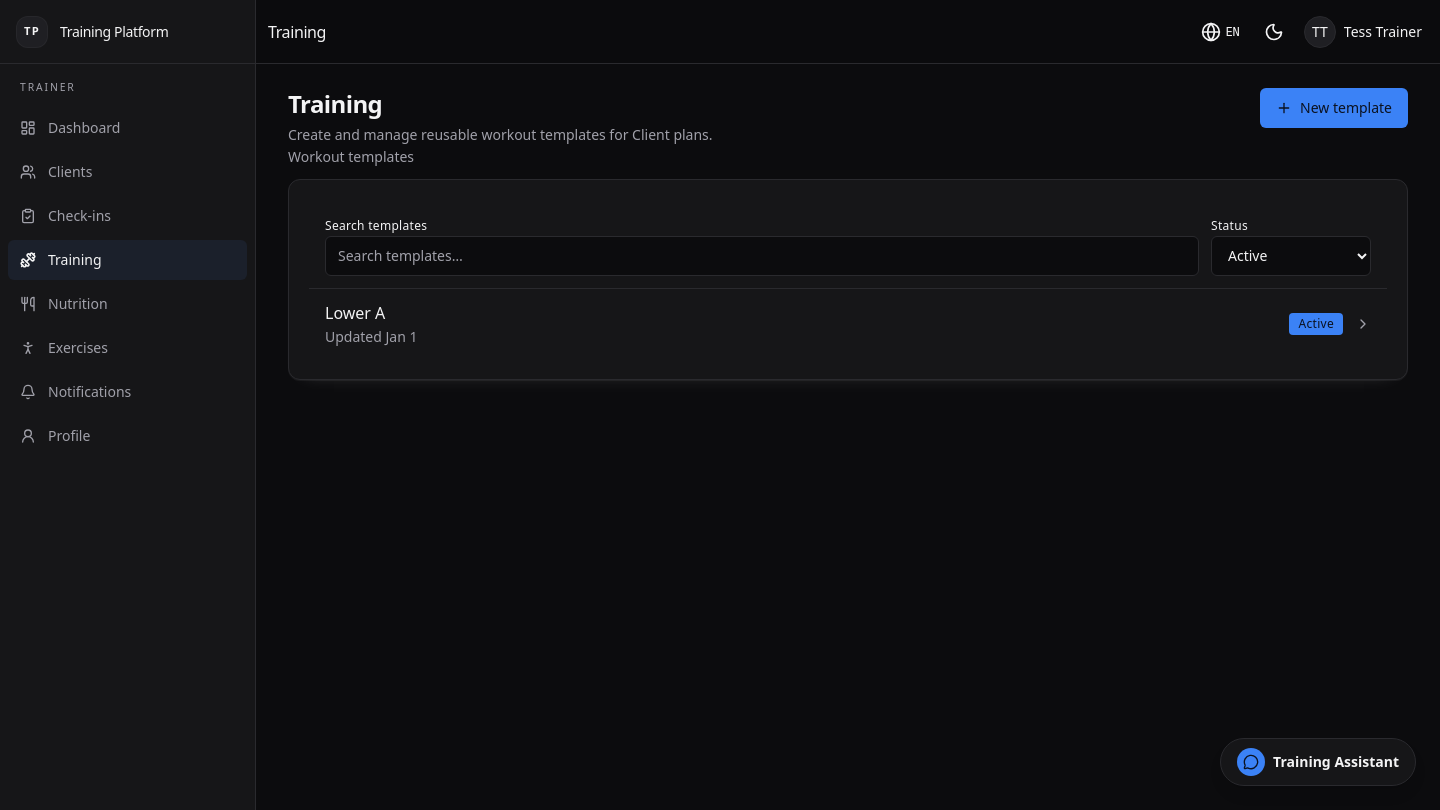
Test case: Trainer workspace › keeps the template library primary and creates from a sheet
Check: the heading "Training" is shown, box [288, 87, 382, 120]
Check: the heading "Workout templates" is shown, box [288, 147, 414, 166]
Click the button "New template".
click(1334, 108)  # box [1260, 88, 1408, 128]
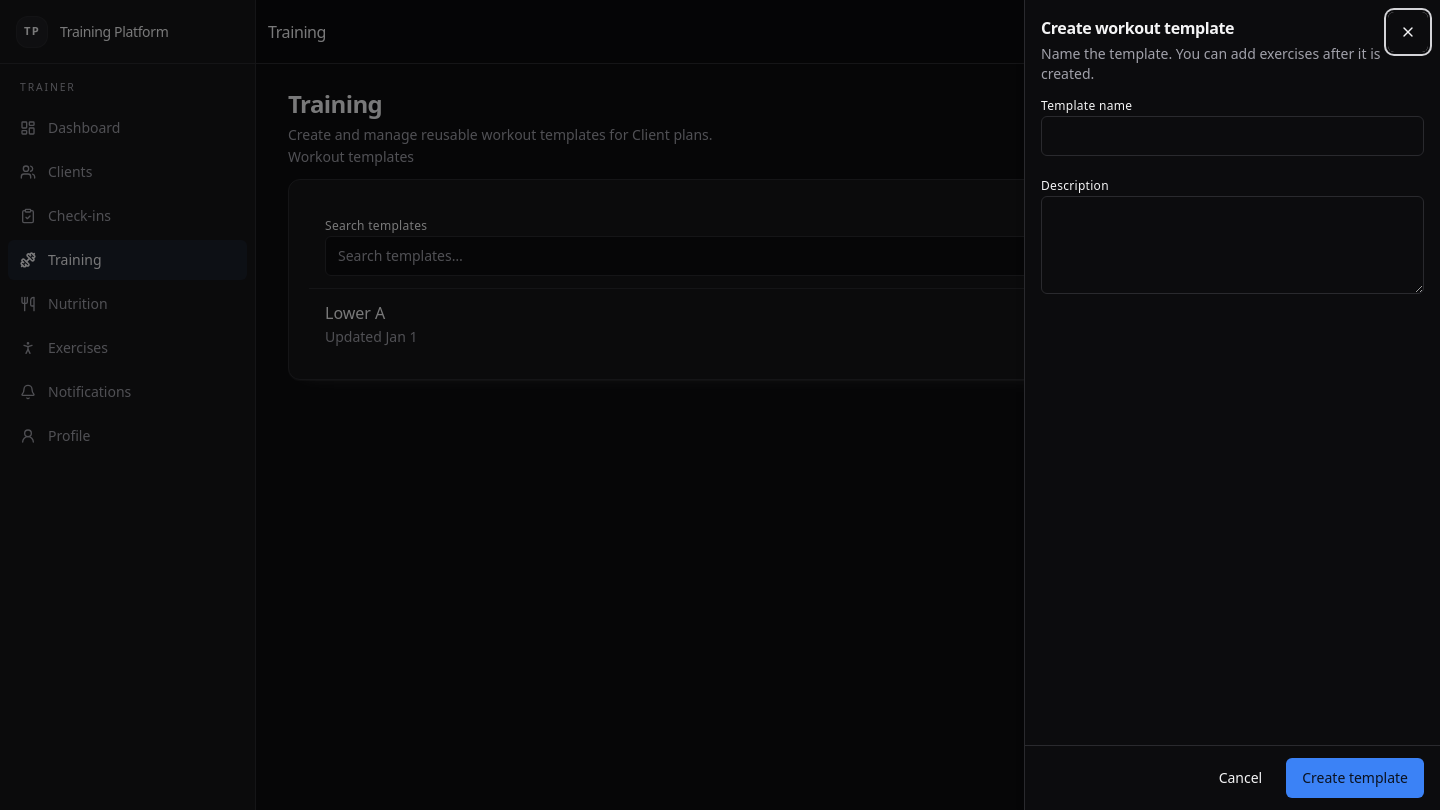
Check: the dialog is shown, box [1024, 0, 1439, 809]
Type "Pull Hypertrophy" into the field labelled "Template name".
click(1232, 136); type("Pull Hypertrophy")  # box [1041, 116, 1424, 156]
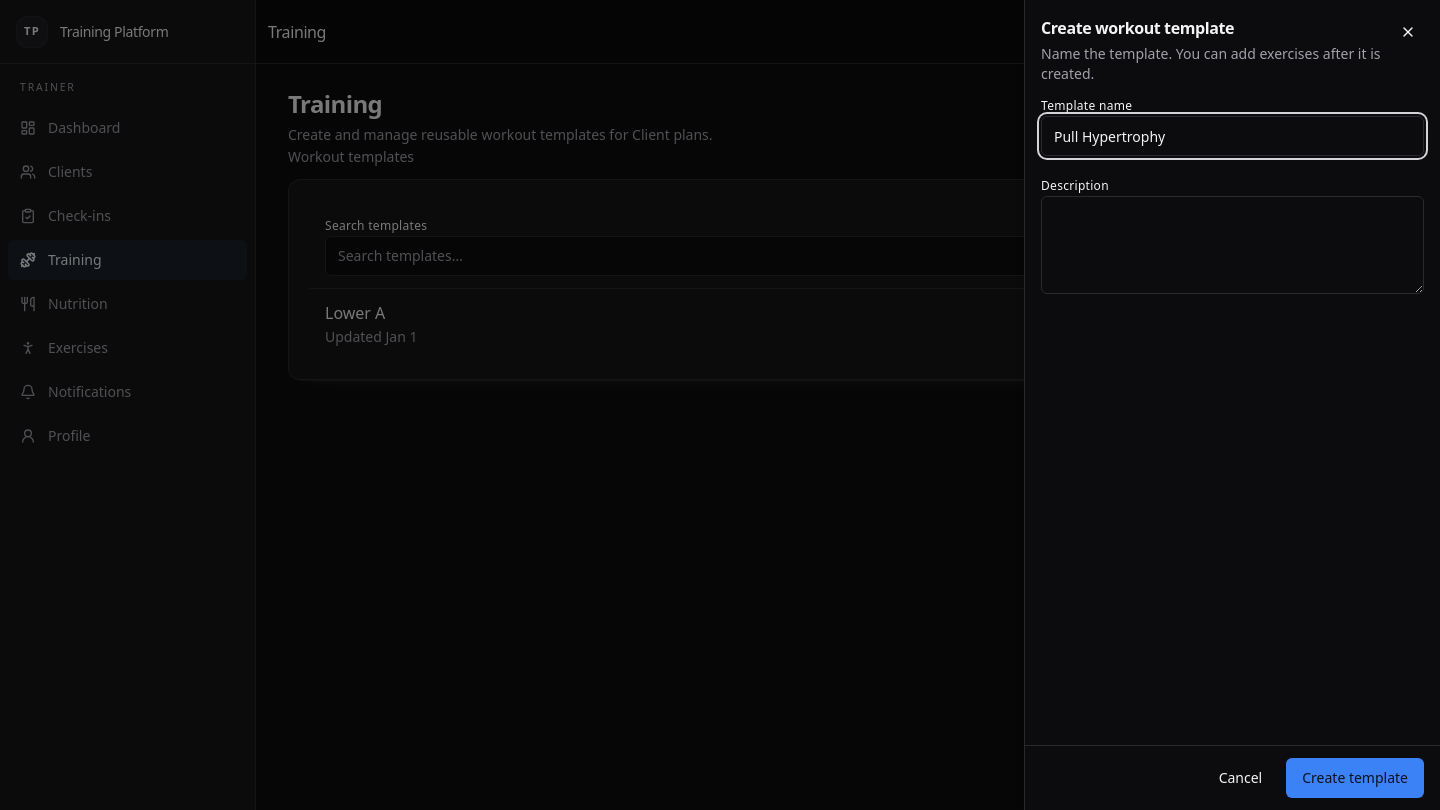
Click the button "Create template".
click(1355, 778)  # box [1286, 758, 1424, 798]
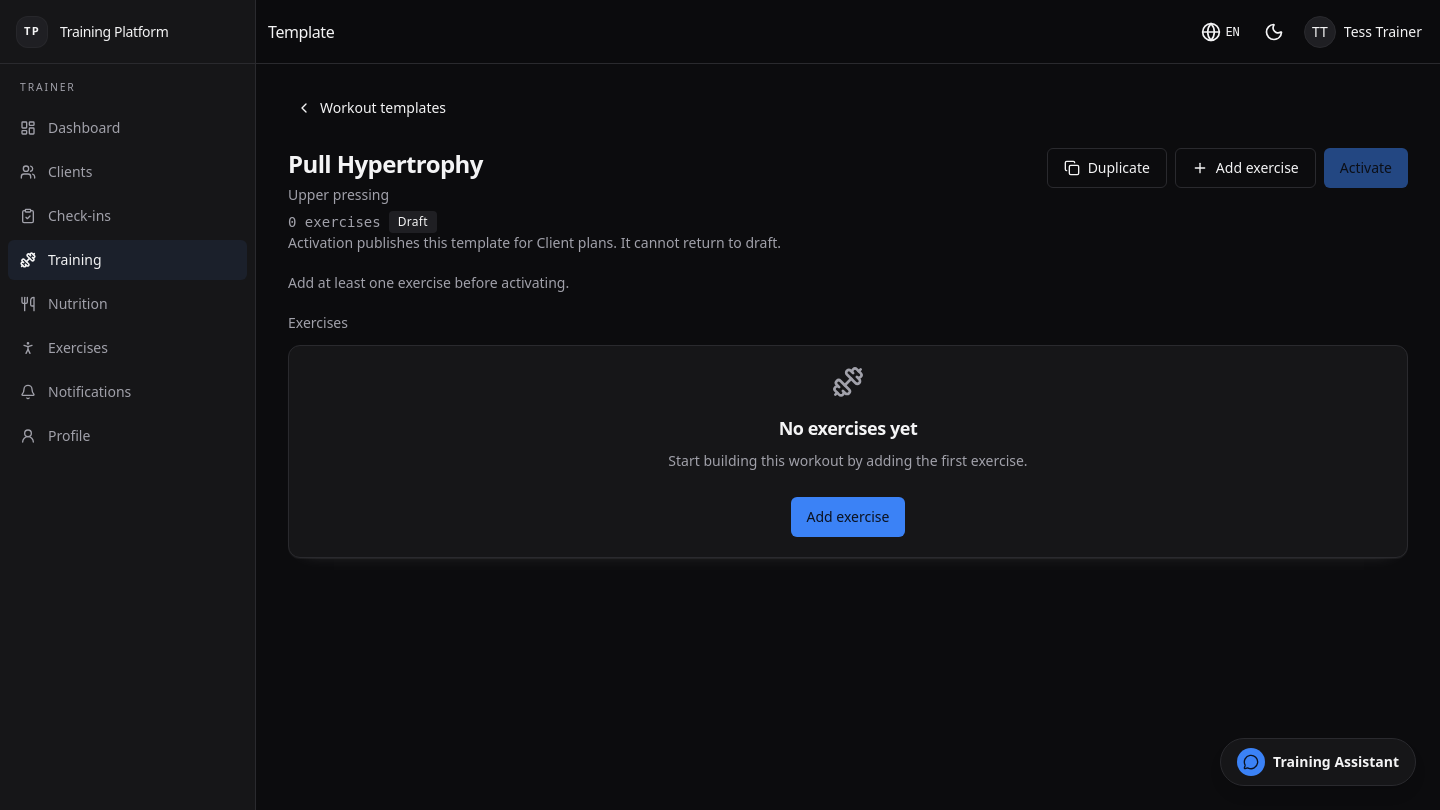
Check: the heading "Pull Hypertrophy" is shown, box [288, 148, 483, 180]
Check: the heading "No exercises yet" is shown, box [779, 414, 917, 442]
